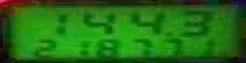-: (162, 29, 172, 35)
1: (45, 10, 71, 34), (71, 37, 91, 57), (197, 36, 218, 55)
2: (28, 37, 58, 58)
3: (175, 8, 210, 35)
4: (126, 9, 162, 34), (78, 10, 114, 34)
7: (157, 37, 182, 58), (126, 37, 152, 57)
8: (93, 38, 119, 57)
